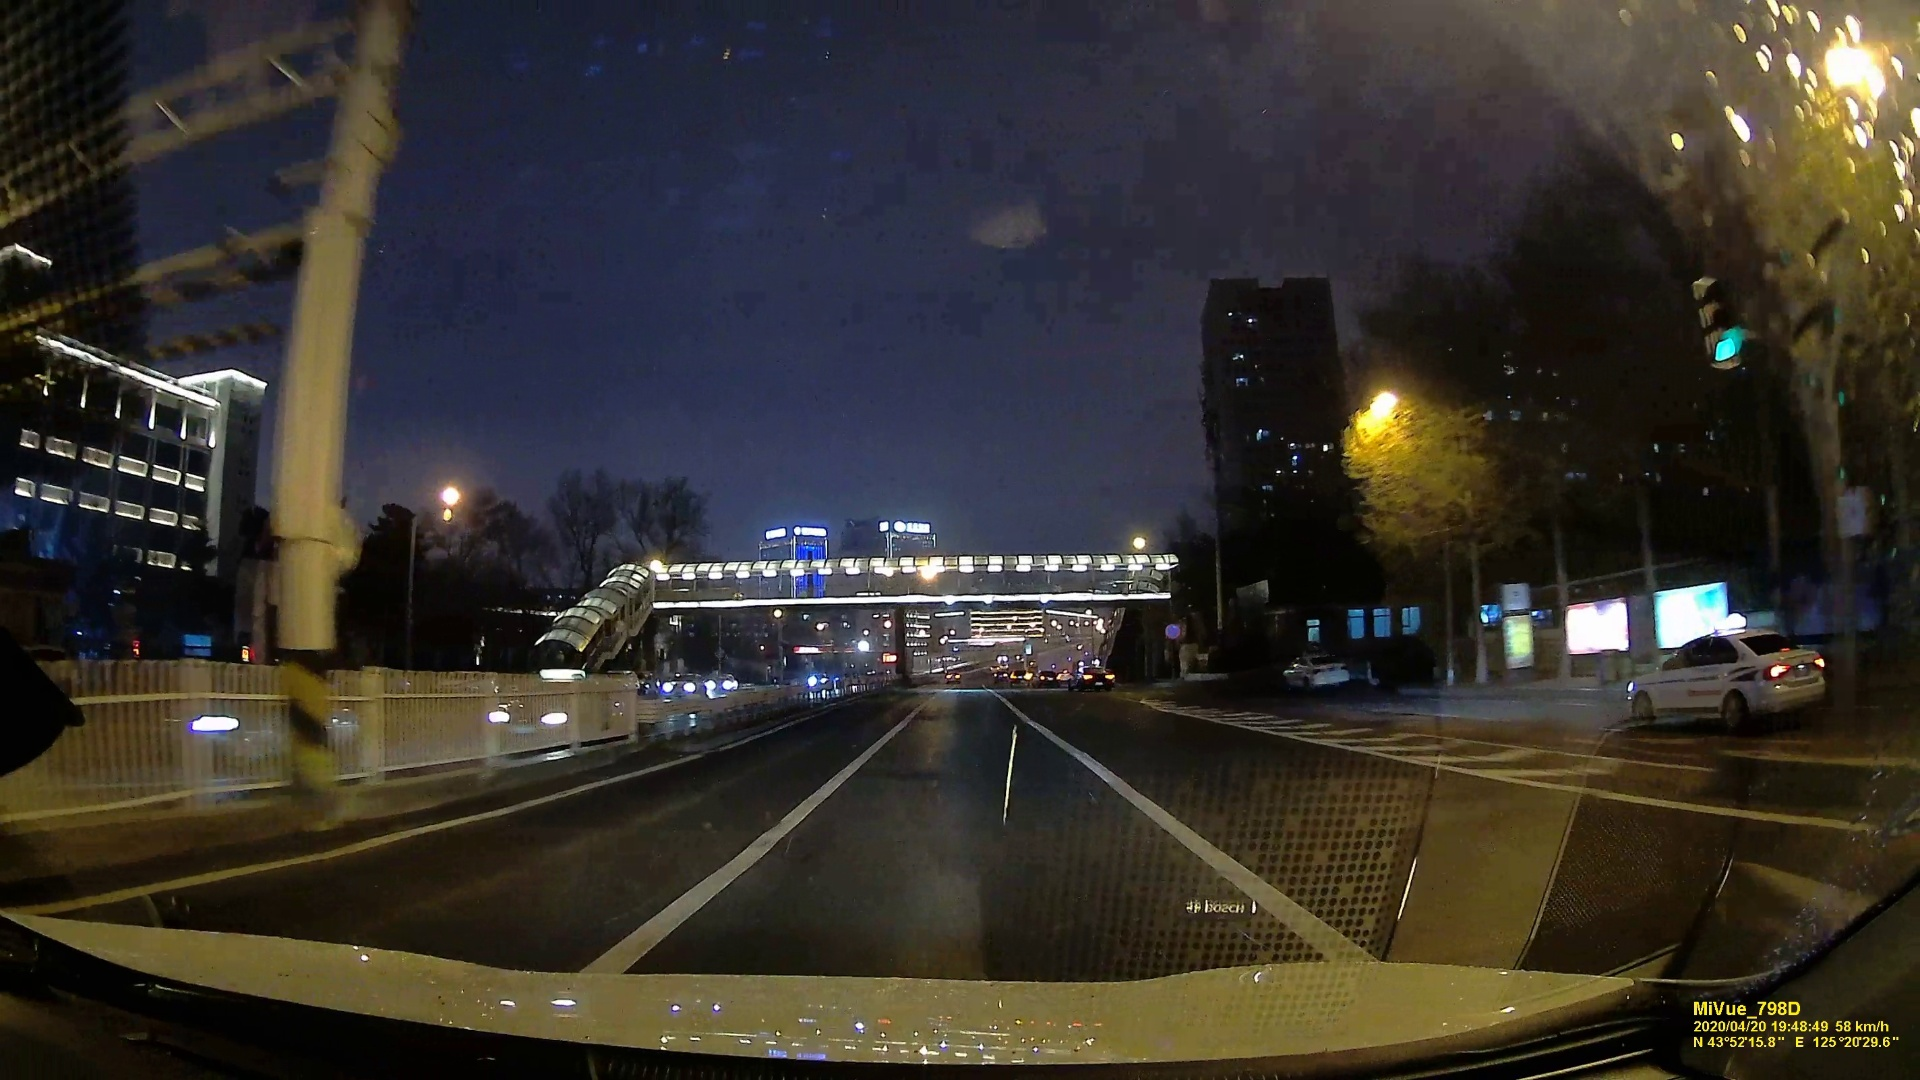traffic_sign: (1691, 264, 1746, 378)
vehicle: (1619, 629, 1830, 731), (659, 673, 704, 700), (1068, 666, 1113, 688), (702, 673, 737, 694)
